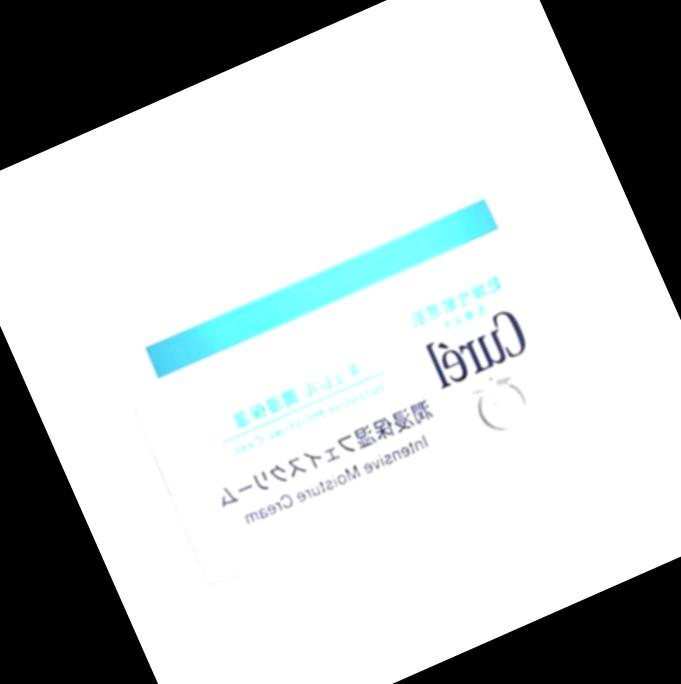cosmetic: (72, 99, 627, 589)
